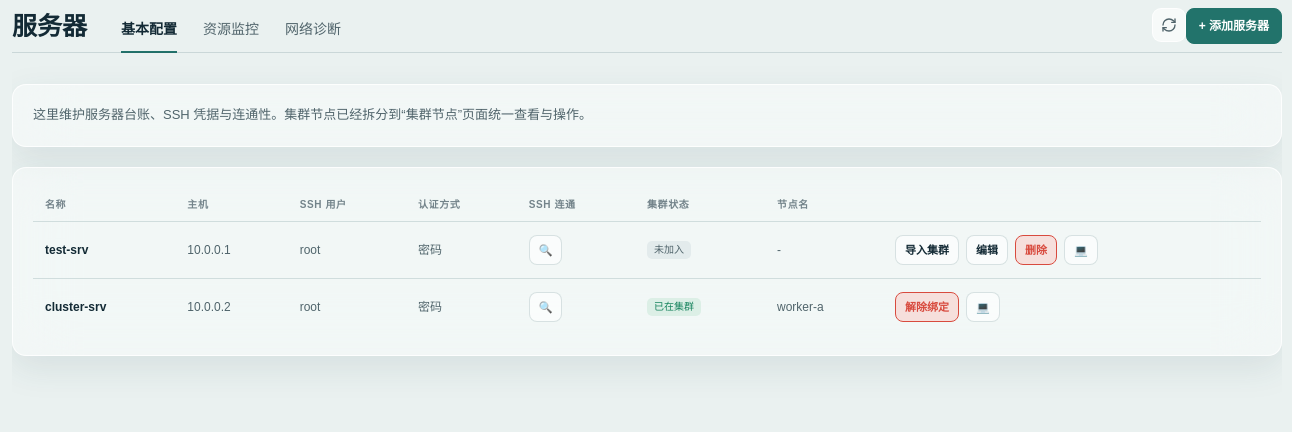
Servers view › shows network diagnostics and keeps failures local
This screenshot has width=1292, height=432.
Click the button with class "section-tab" showing "网络诊断": click(313, 36) [285,19,341,52]
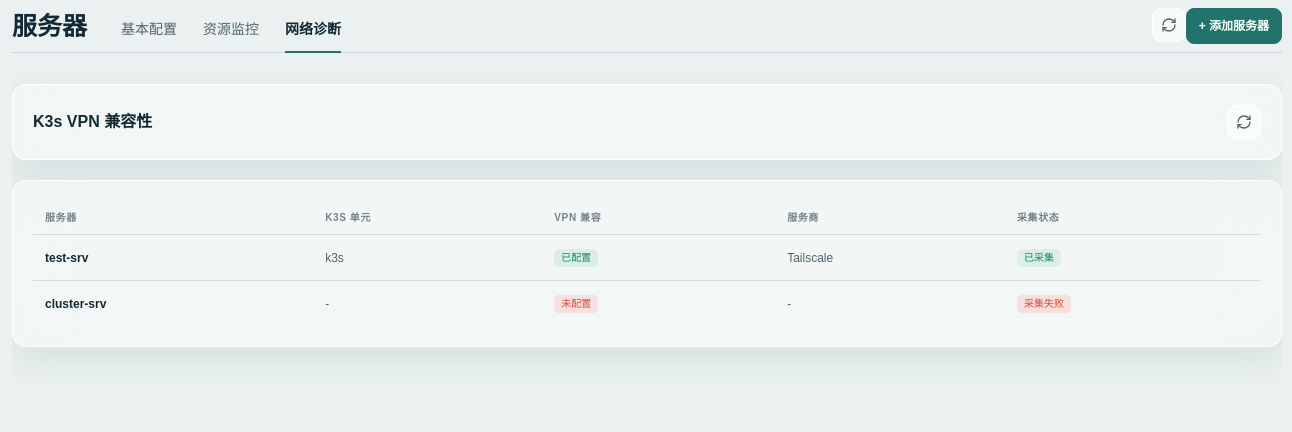
Expected: the text "K3s VPN 兼容性" is shown, [33,110,152,134]
Expected: the text "VPN 兼容" is shown, [33,113,152,130]
Expected: the text "Tailscale" is shown, [775,234,1005,280]
Click the button titled "刷新网络诊断": click(1244, 122) [1227,105,1261,139]
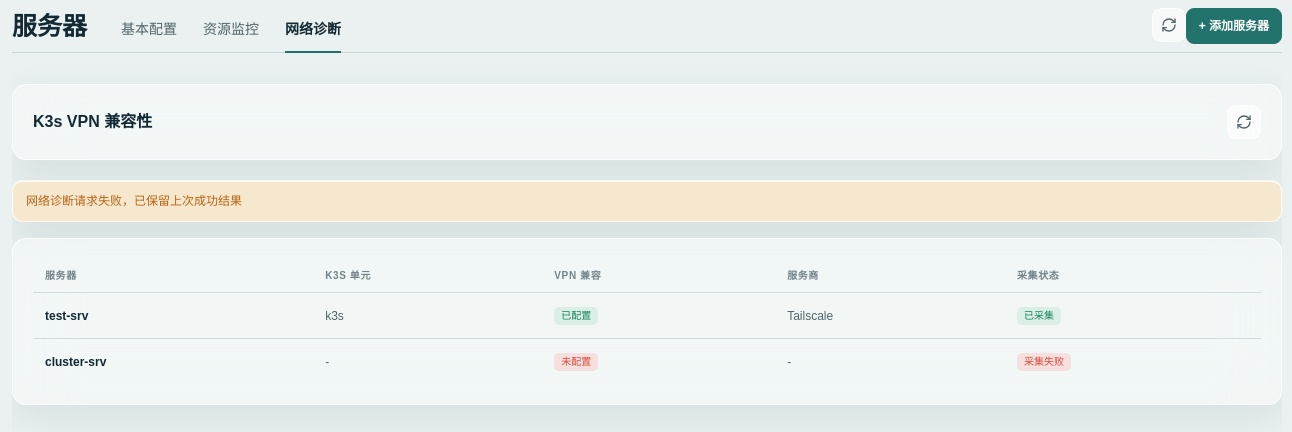
Expected: the text "K3s VPN 兼容性" is shown, [33,110,152,134]
Expected: the text "网络诊断请求失败" is shown, [26,194,242,208]
